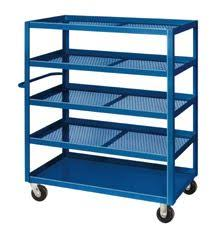Carts: (18, 15, 199, 224)
